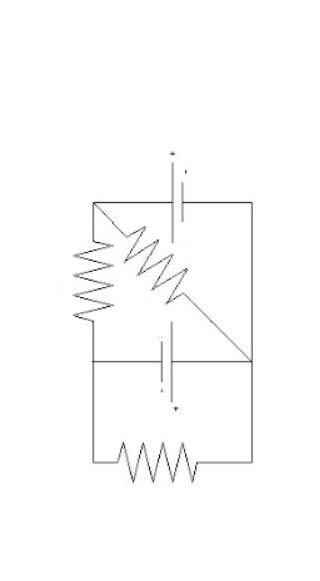resistor: (107, 422, 209, 492), (115, 215, 192, 301), (65, 226, 120, 336)
